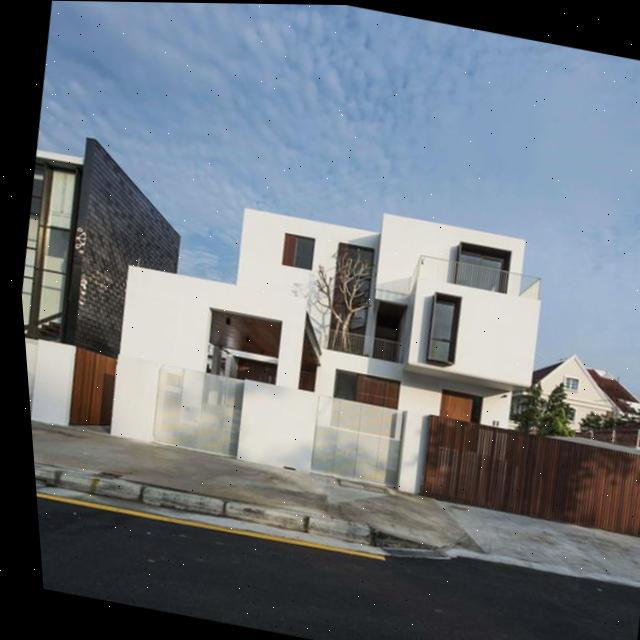building: (87, 159, 563, 518), (8, 111, 214, 376), (518, 318, 640, 456)
